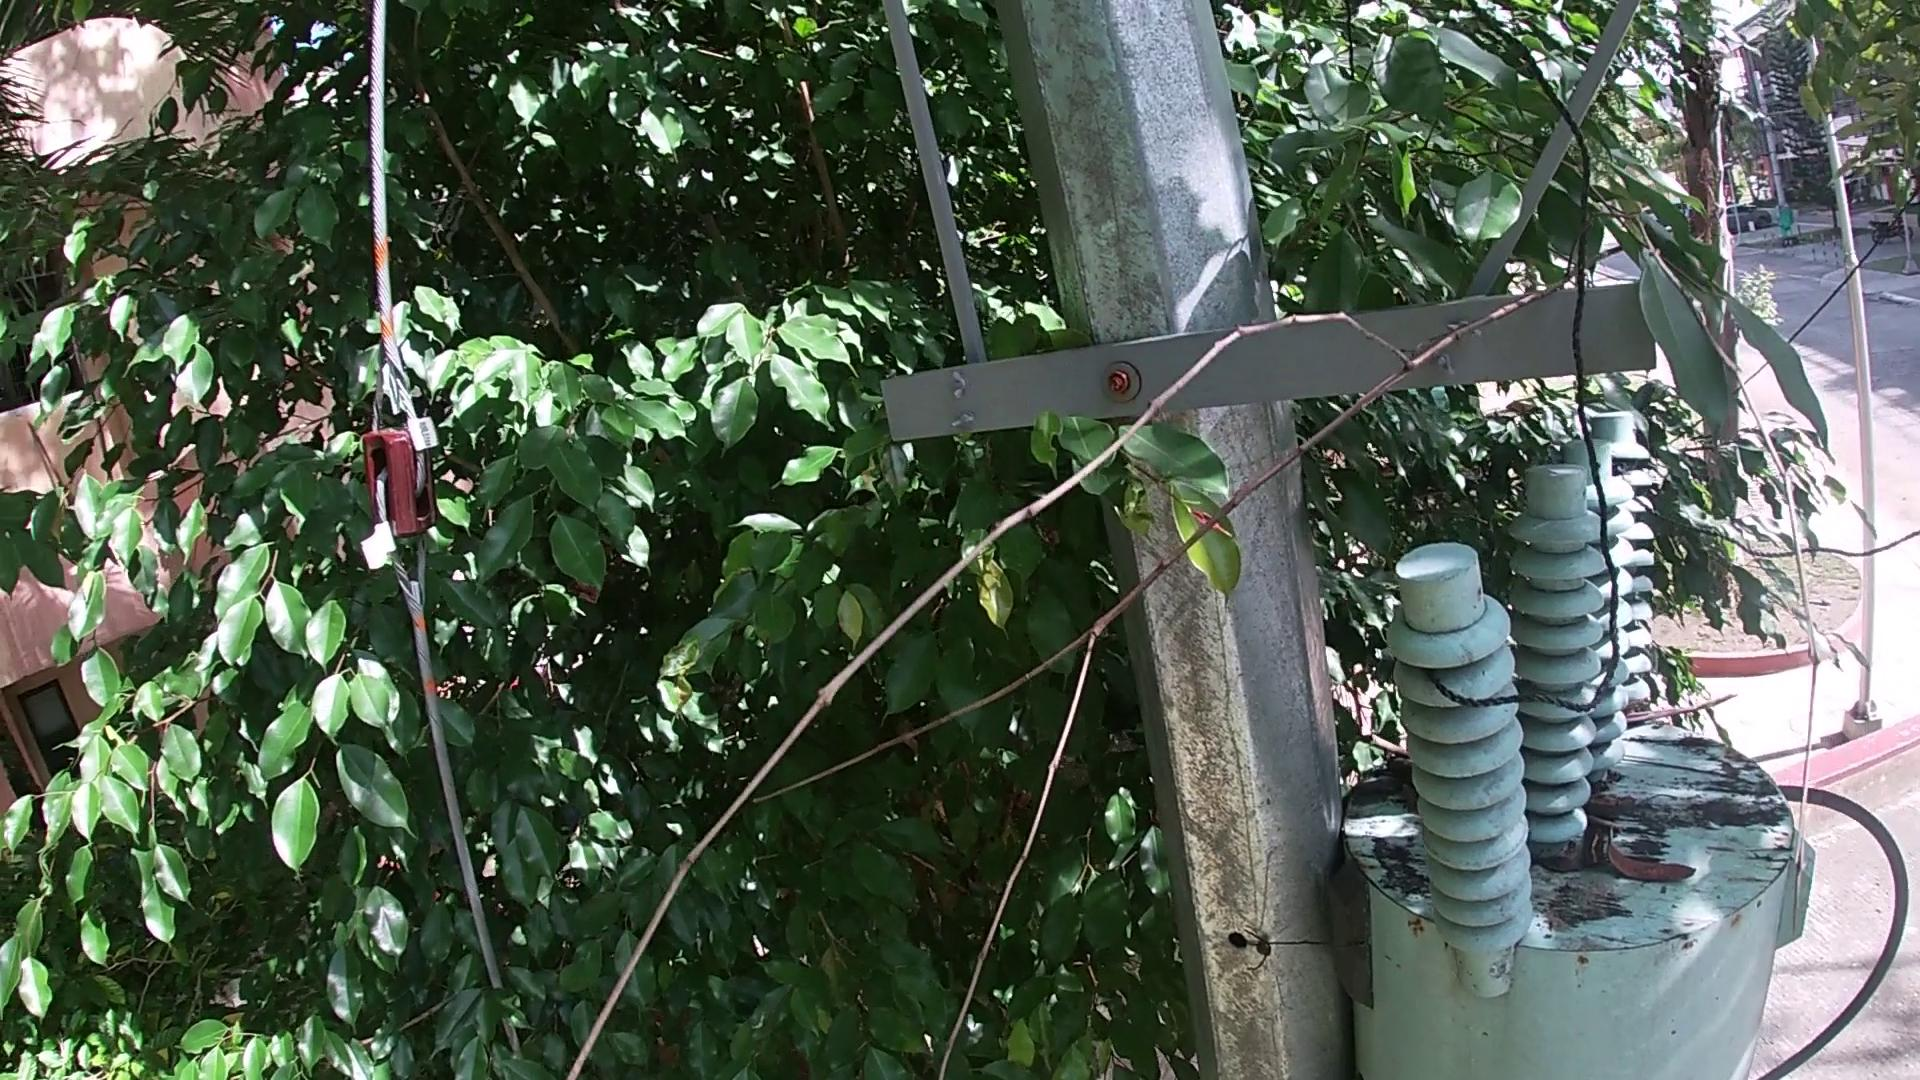leaf: (1597, 823, 1702, 890), (1396, 779, 1415, 808)
tree branch: (556, 231, 1830, 1077), (1623, 684, 1745, 731), (1362, 731, 1422, 783)
